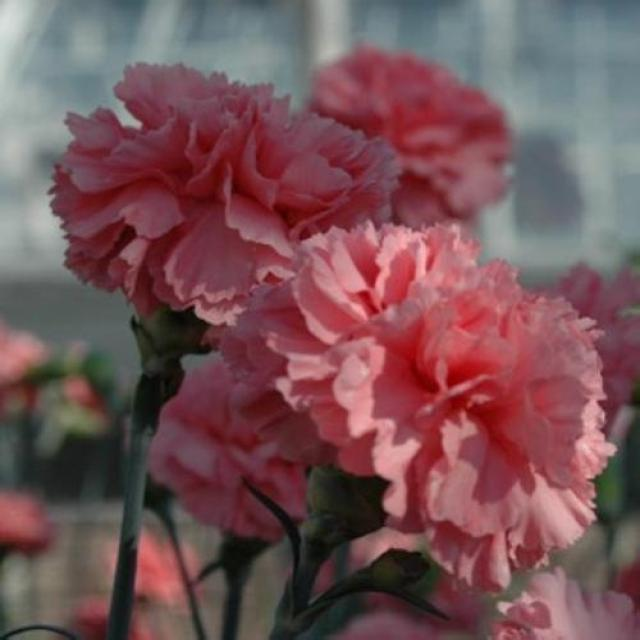carnation: (254, 248, 640, 569), (47, 64, 375, 308)
